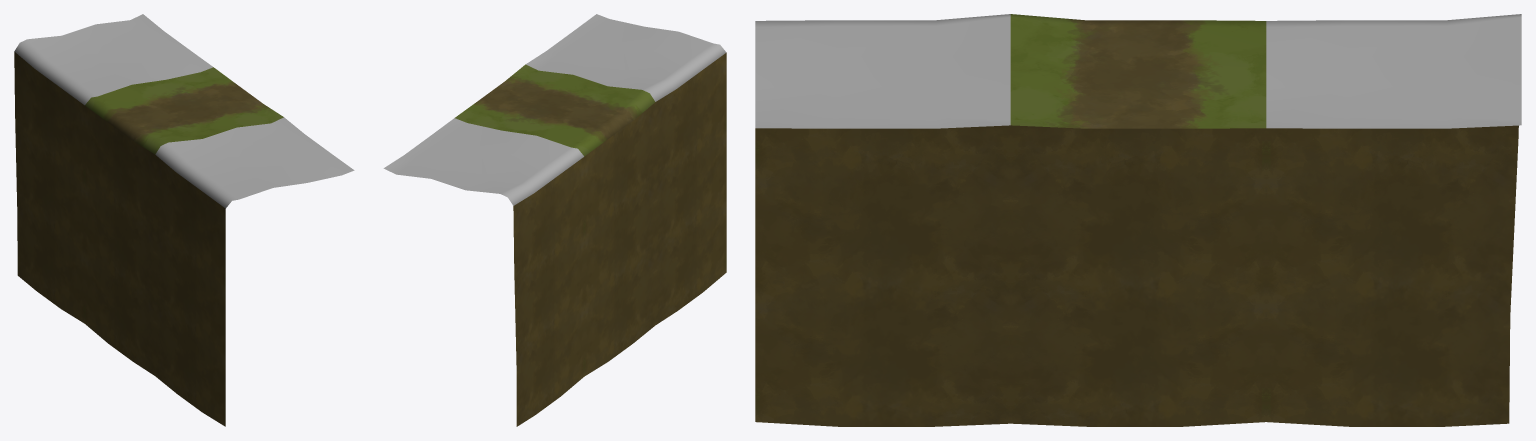
Rendered from sm_Ground_FrontEnd.fbx.
The picture shows the model from 3 angles, left to right: view 1: azimuth 30°, elevation 25°; view 2: azimuth 150°, elevation 25°; view 3: azimuth 270°, elevation 25°; orthographic projection. The views are drawn at different scales.
Parts seen in each view (by area): view 1: Ground_Front; view 2: Ground_Front; view 3: Ground_Front.
Part boxes in pixels (<box>): Ground_Front: <box>14,14,354,426</box>; Ground_Front: <box>383,14,726,426</box>; Ground_Front: <box>755,14,1521,426</box>.
Bounding box in the file's own units: 600 × 1033 × 1705.
